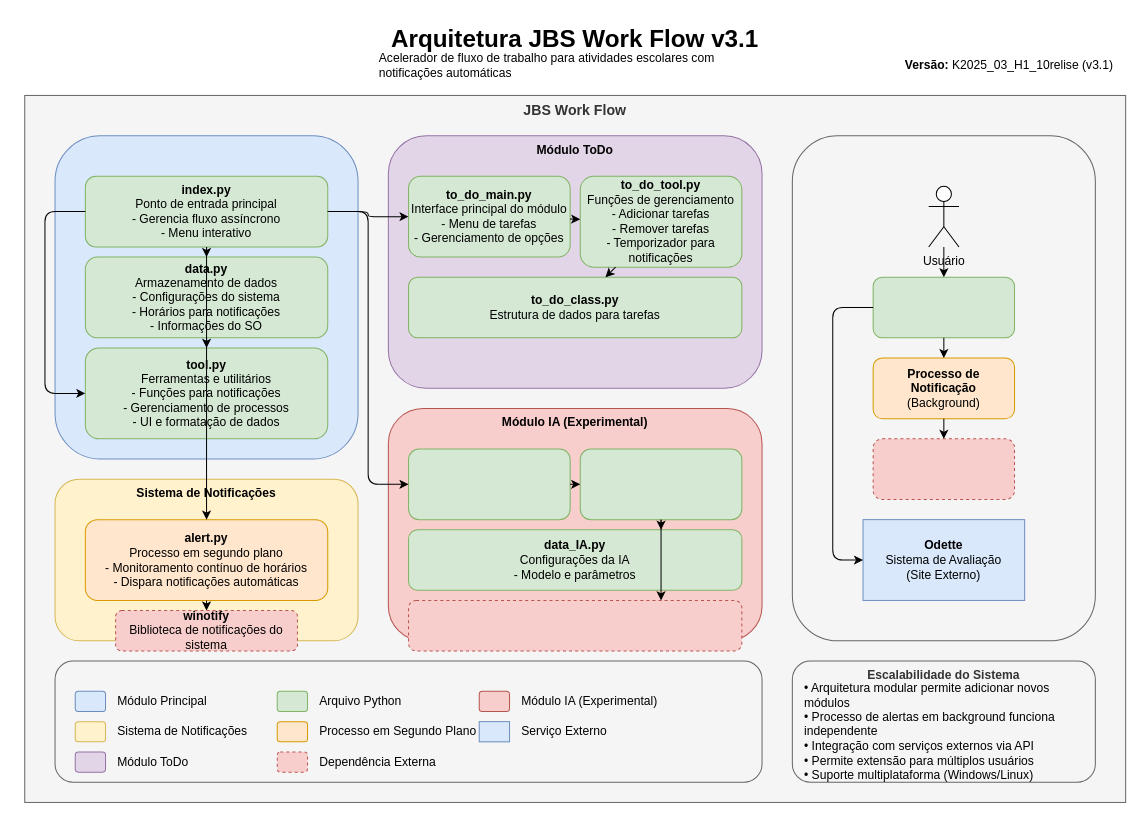
Image size: 1143x820. Some labels were removed from this diagram. Here are the shapes that lost their labels. From the top down, the box of each, then its label:
(54, 135, 358, 459): Núcleo do Sistema
(872, 276, 1015, 338): Interface de Menu (Terminal)
(791, 135, 1095, 641): Fluxo de Dados e Interações
(408, 448, 570, 520): index_IA.py Interface principal do módulo IA - Menu e configurações
(579, 448, 742, 520): tool_IA.py Funções de suporte à IA - Instalação do Ollama - Execução de modelos
(872, 438, 1015, 499): Sistema Operacional Windows/Linux
(408, 599, 742, 651): Ollama (Dependência Externa) Motor de IA local
(54, 660, 762, 782): Legenda
